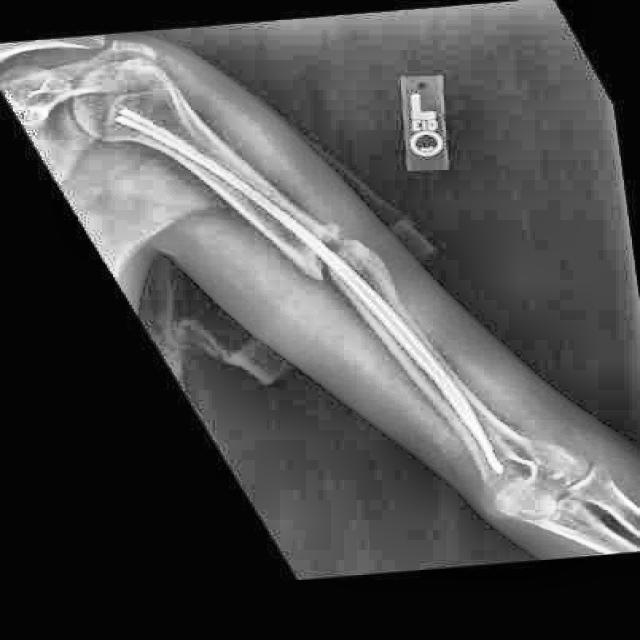humerus: (258, 180, 441, 354)
